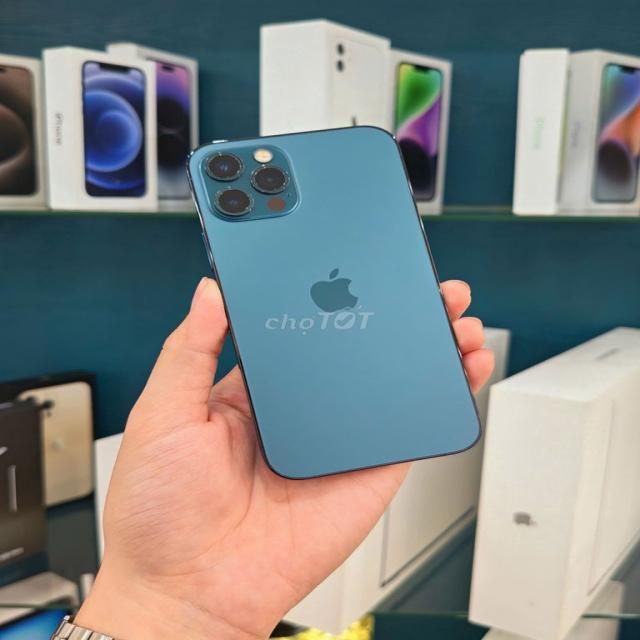gen_12_13: (183, 126, 483, 482)
